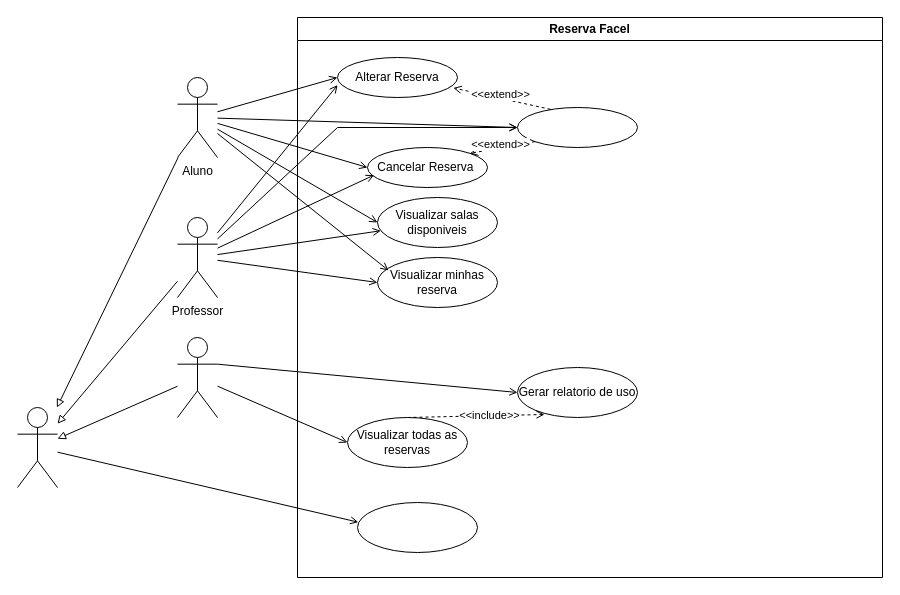
Some shapes in this 900 by 595 pixel diagram are drawn without their labels. Here are the shapes that lost their labels. From the top down, the box of each, then its label:
(516, 106, 638, 148): Reservar Sala
(176, 336, 218, 418): Administrador
(16, 406, 58, 488): Usuario
(356, 502, 478, 552): Autenticar no Sistema
